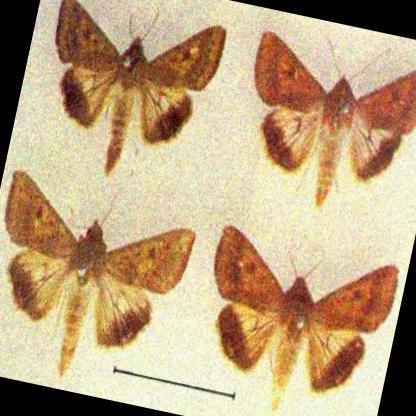helicoverpa: (6, 171, 195, 378), (214, 228, 396, 416), (58, 0, 227, 170), (253, 33, 416, 205)
